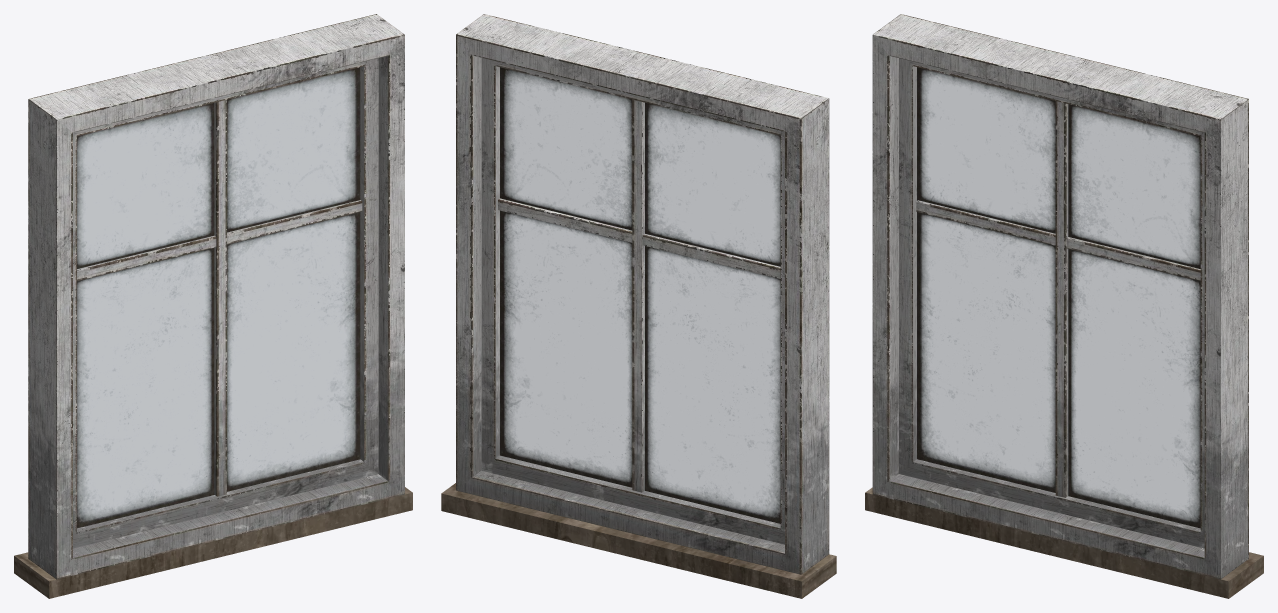
File: broken-window.glb
3 views of the same model, side by side, from view 1: azimuth 30°, elevation 25°; view 2: azimuth 150°, elevation 25°; view 3: azimuth 330°, elevation 25° (orthographic).
Visible parts, largest first — view 1: defaultMaterial (×2); view 2: defaultMaterial (×2); view 3: defaultMaterial (×2).
Boxes of the visible parts, box(x1,y1,x2,y2) form: defaultMaterial (×2): box(14, 14, 412, 598); defaultMaterial (×2): box(441, 14, 836, 598); defaultMaterial (×2): box(865, 14, 1263, 598).
Size of the model in its own units: 1.59 by 2 by 0.2661.
Materials: 2 (2 with a texture image).
